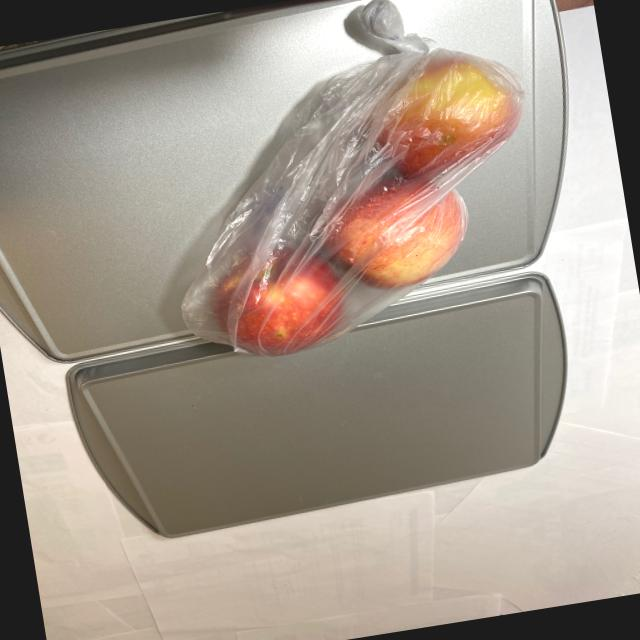apple: (161, 30, 562, 372)
